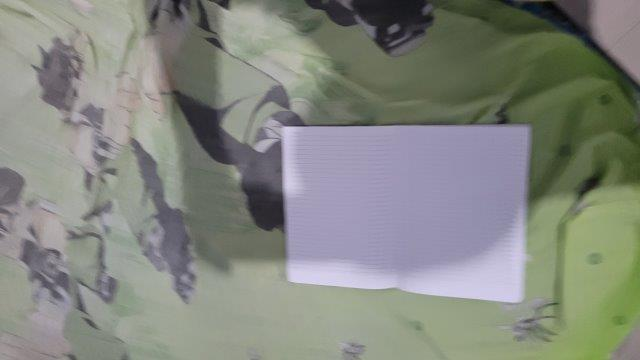kertas: (281, 125, 530, 302)
